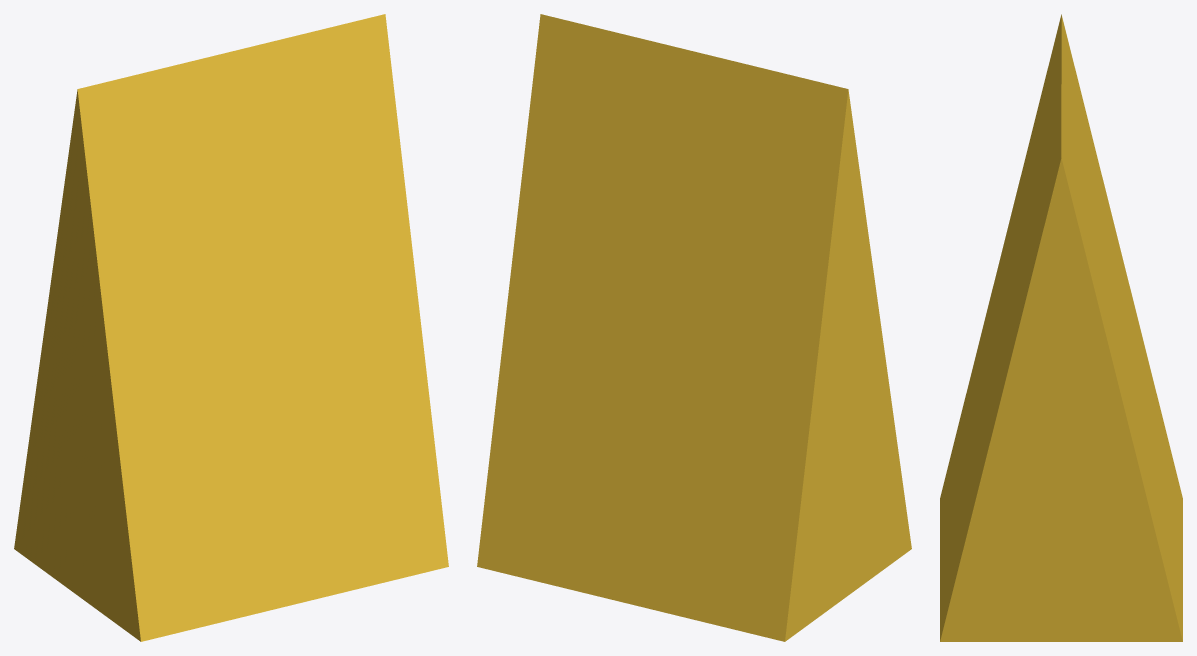
The model's file is prop_wet_sign.glb.
The picture shows the model from 3 angles, left to right: view 1: azimuth 30°, elevation 25°; view 2: azimuth 150°, elevation 25°; view 3: azimuth 270°, elevation 25°; orthographic projection. The views are drawn at different scales.
Parts seen in each view (by area): view 1: sign; view 2: sign; view 3: sign.
Boxes of the visible parts, box(x1,y1,x2,y2) form: sign: box(14, 14, 448, 641); sign: box(477, 14, 911, 641); sign: box(940, 14, 1182, 641).
Size of the model in its own units: 0.14 by 0.22 by 0.1.
1 material, 1 textured.
